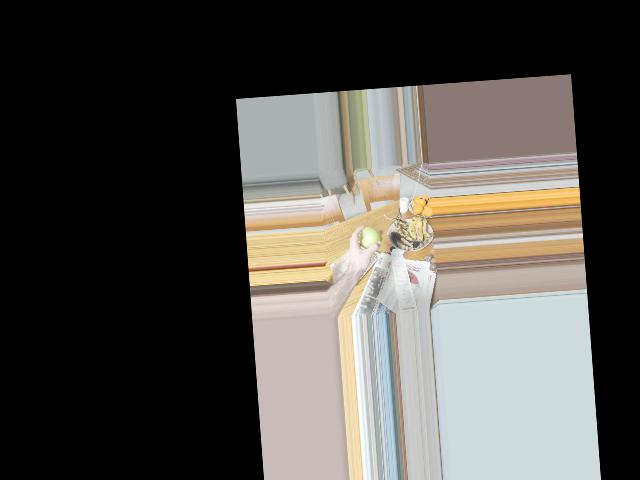apple: (358, 224, 381, 250)
